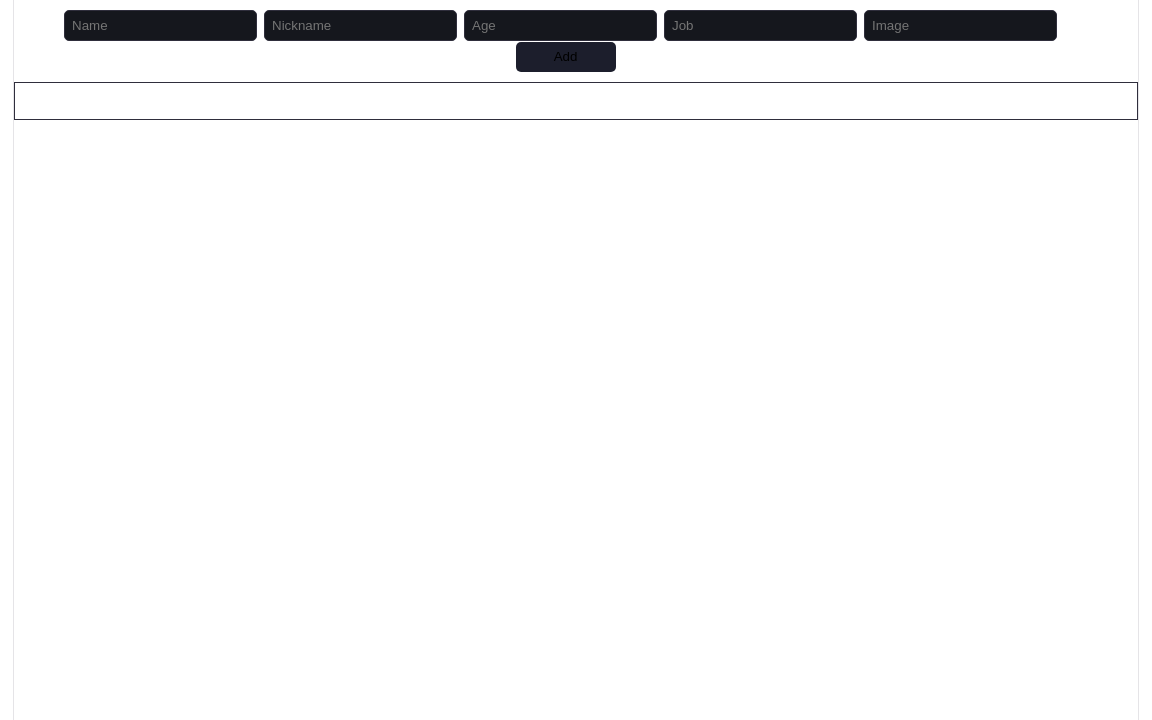
Test: CharacterIndexTable › shows error if image is invalid
Type "John" into the field with placeholder "Name".
click(160, 26); type("John")  # box [64, 10, 257, 41]
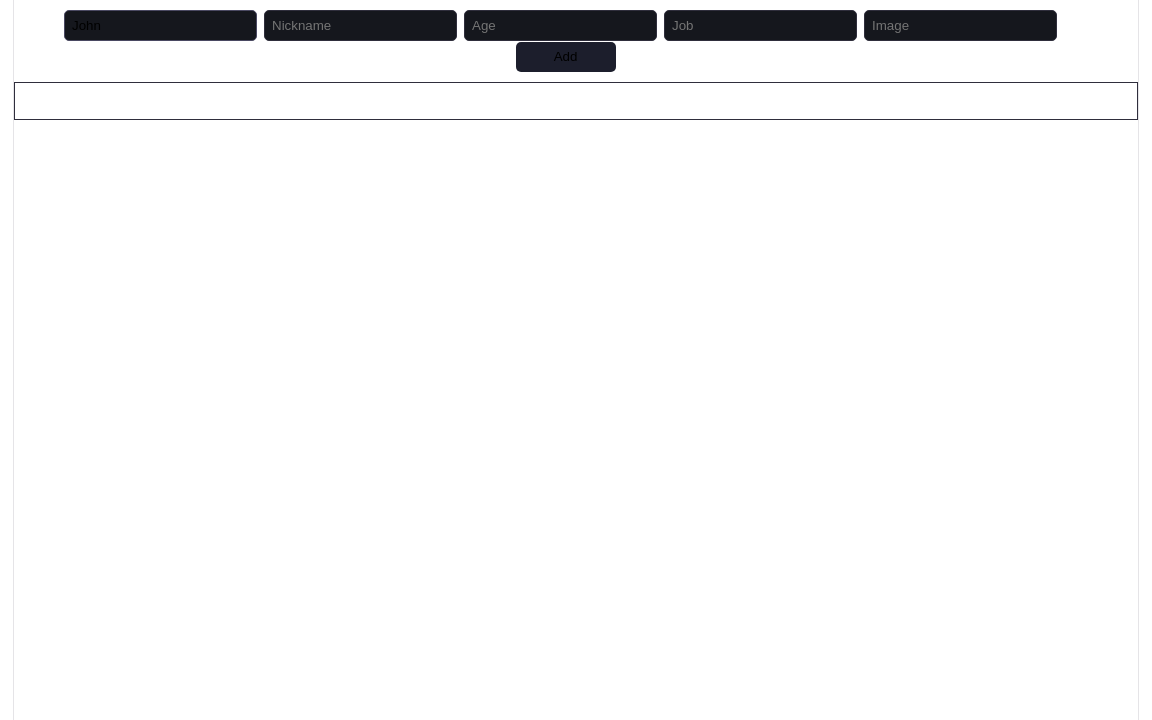
Type "Johnny" into the field with placeholder "Nickname".
click(360, 26); type("Johnny")  # box [264, 10, 457, 41]
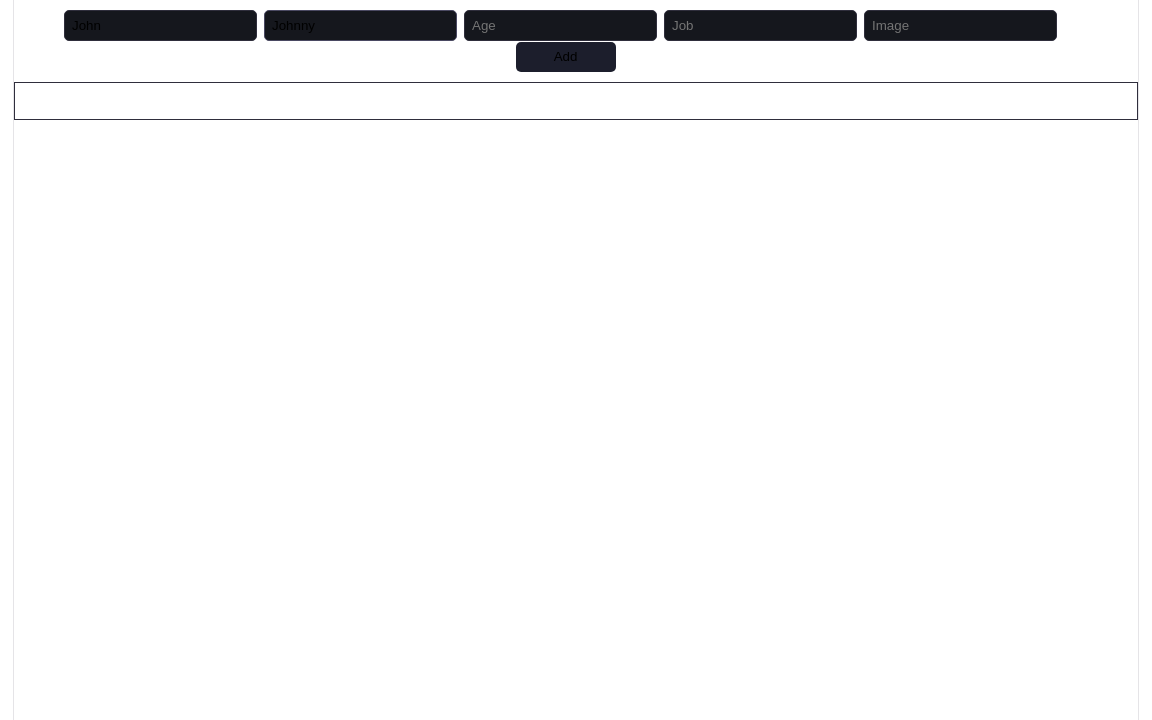
Type "30" into the number field with placeholder "Age".
click(560, 26); type("30")  # box [464, 10, 657, 41]
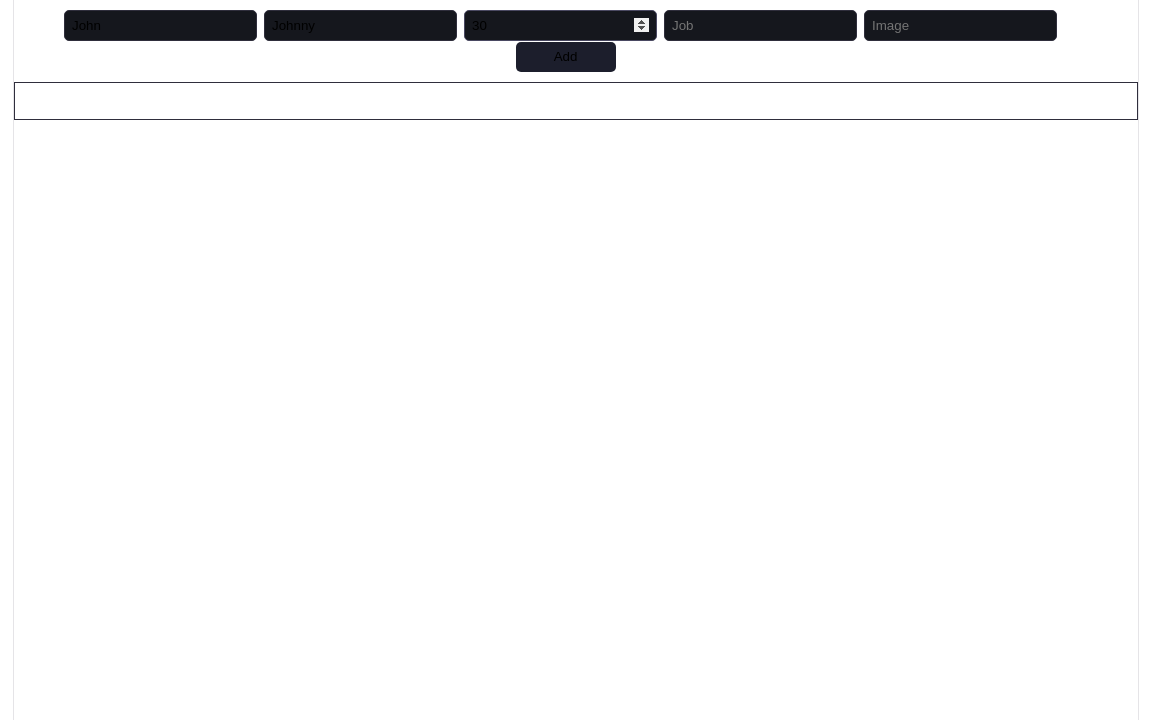
Type "Dev" into the field with placeholder "Job".
click(760, 26); type("Dev")  # box [664, 10, 857, 41]
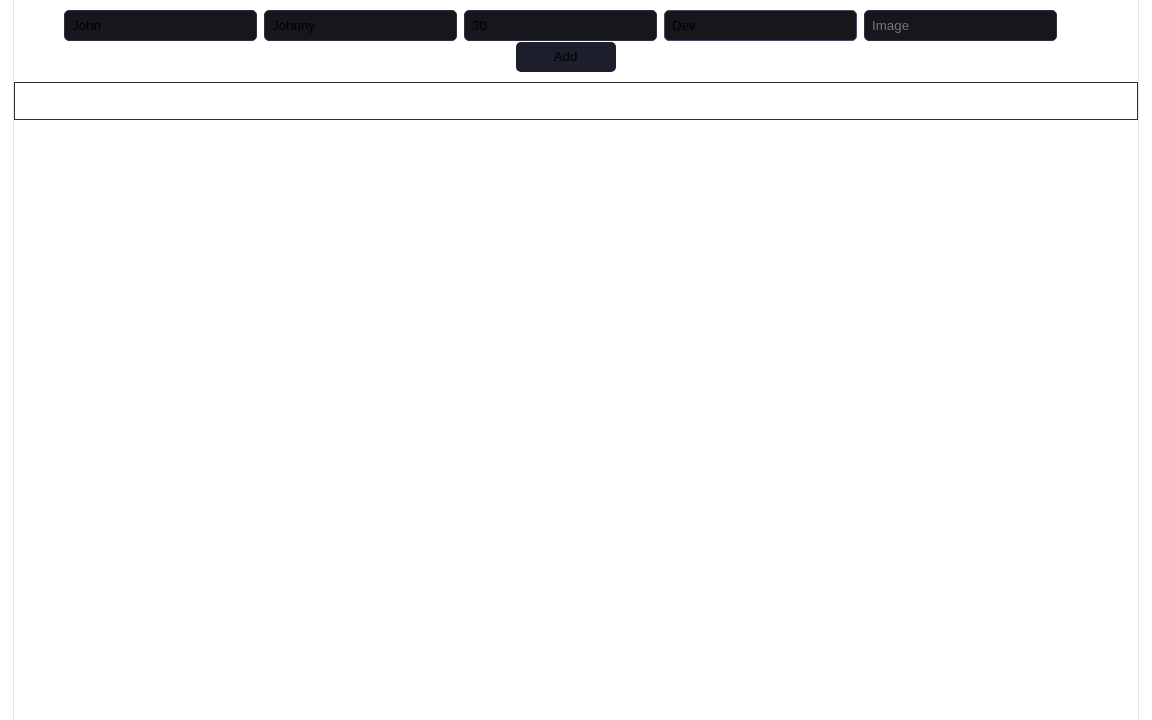
Type "/bad.png" into the field with placeholder "Image".
click(960, 26); type("/bad.png")  # box [864, 10, 1057, 41]
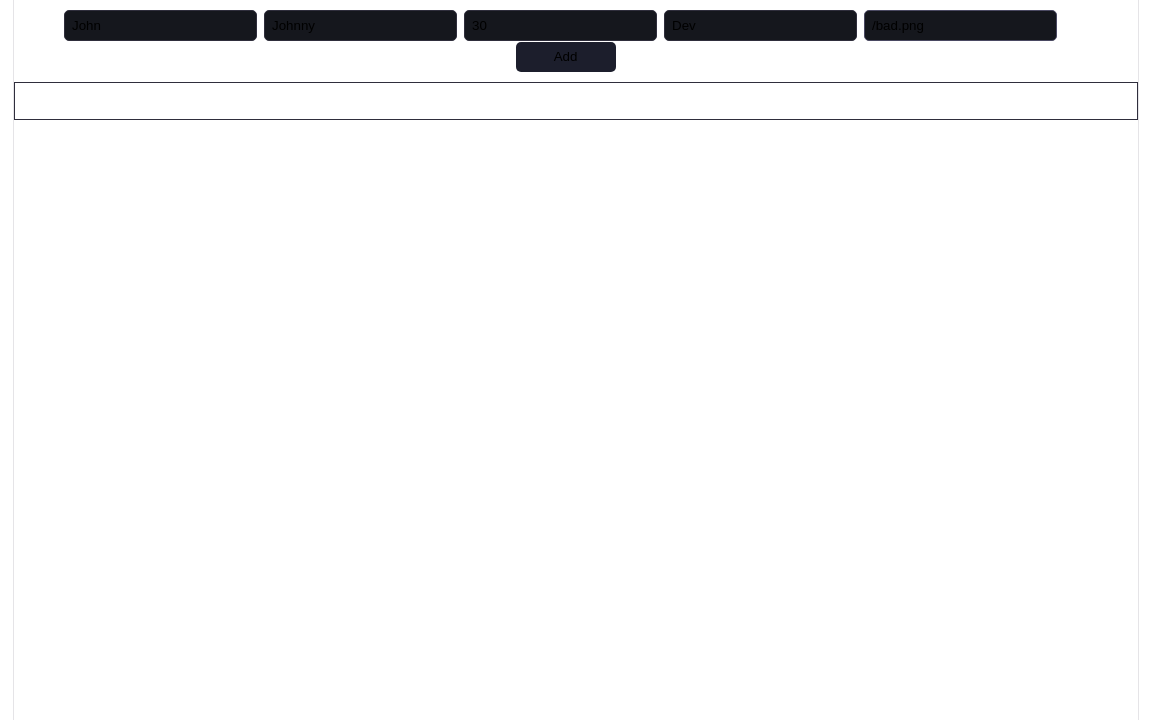
Click the button "Add".
click(566, 56)  # box [516, 42, 616, 72]
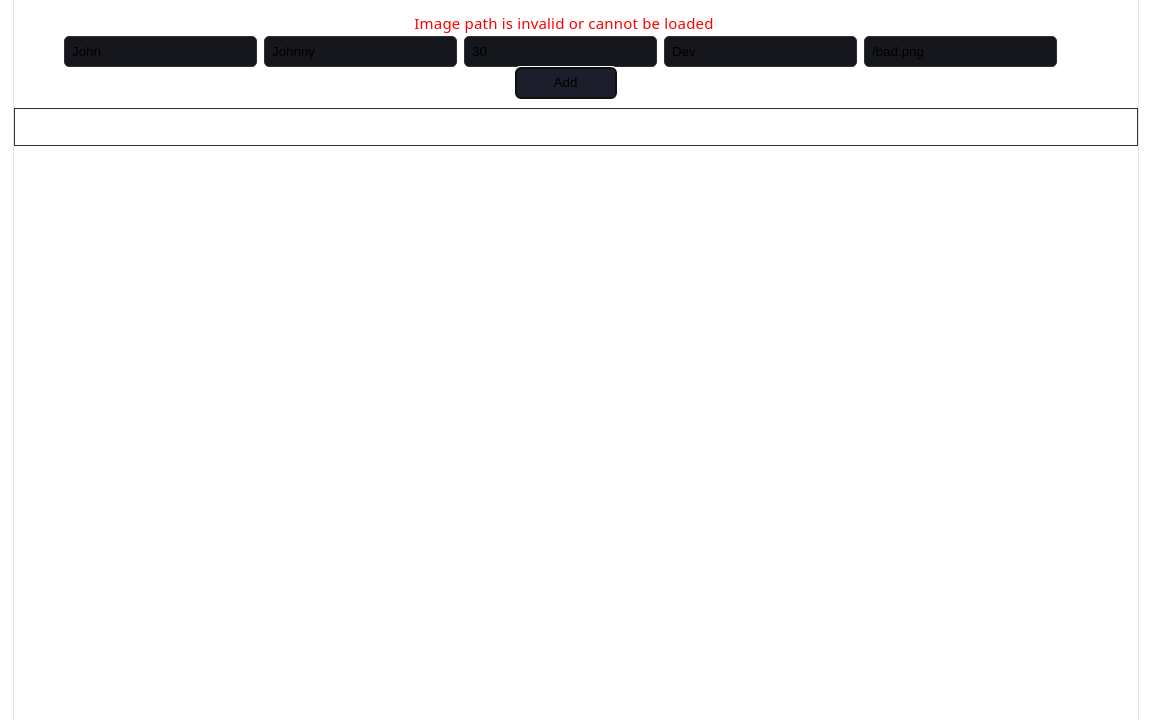
Expected: the text "Image path is invalid or cannot be loaded" is shown, [414, 13, 714, 33]
